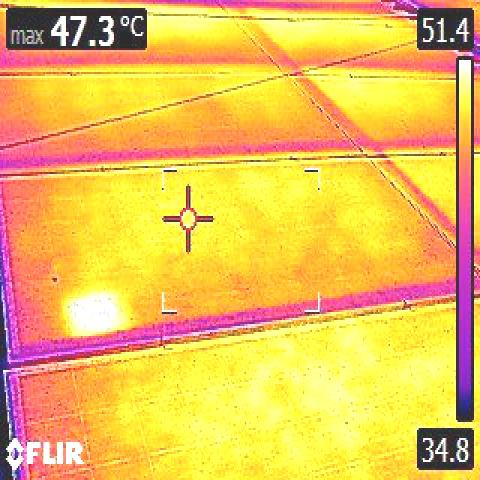fault: (68, 297, 122, 333)
